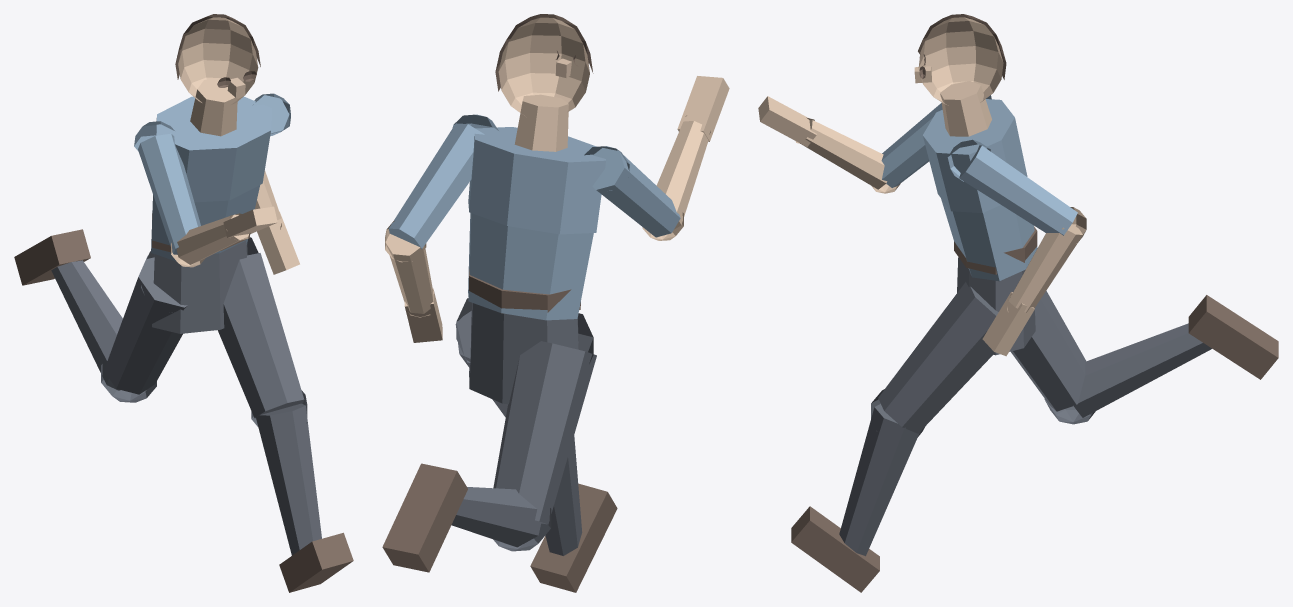
Rendered from low-poly-character-figures-civilian-running-de3617e6.glb.
The picture shows the model from 3 angles, left to right: view 1: azimuth 30°, elevation 25°; view 2: azimuth 150°, elevation 25°; view 3: azimuth 270°, elevation 25°; orthographic projection. The views are drawn at different scales.
Parts seen in each view (by area): view 1: civilian-running; view 2: civilian-running; view 3: civilian-running.
Boxes of the visible parts, x1,y1,x2,y2 form: civilian-running: (14,14,353,592); civilian-running: (382,14,729,592); civilian-running: (758,14,1278,592).
Bounding box in the file's own units: 0.5764 × 1.67 × 1.43.
